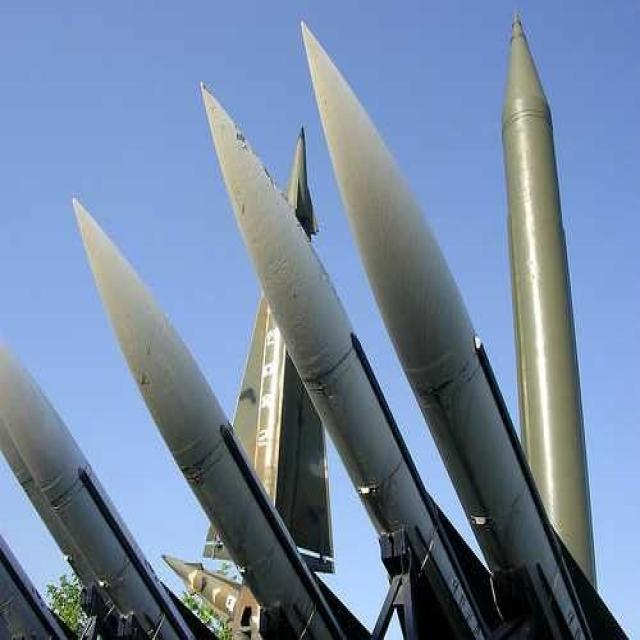missile: (294, 17, 606, 640), (196, 78, 499, 636), (71, 193, 344, 635)
